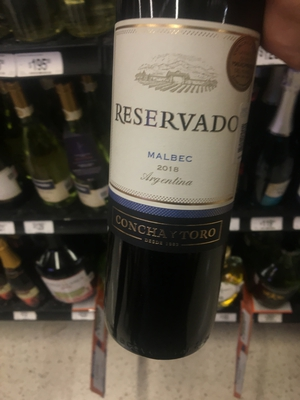reservado malbec: (101, 1, 256, 357)
